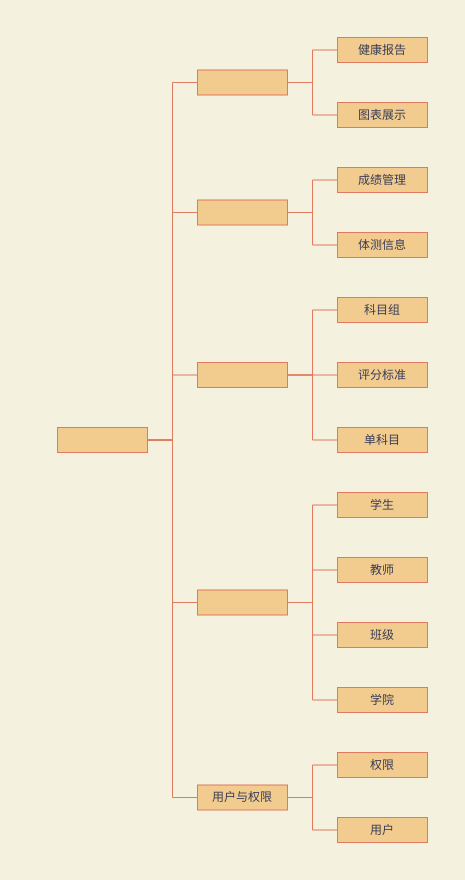
This 465x880 diagram has some shape labels left out. The shapes that lost their labels are listed below. From the top down, each one's centre as x and y in pixels, then its label:
At [242,82]: "统计分析".
At [242,212]: "体质测试".
At [242,375]: "科目".
At [102,439]: "体质健康系统".
At [242,602]: "基础数据".
